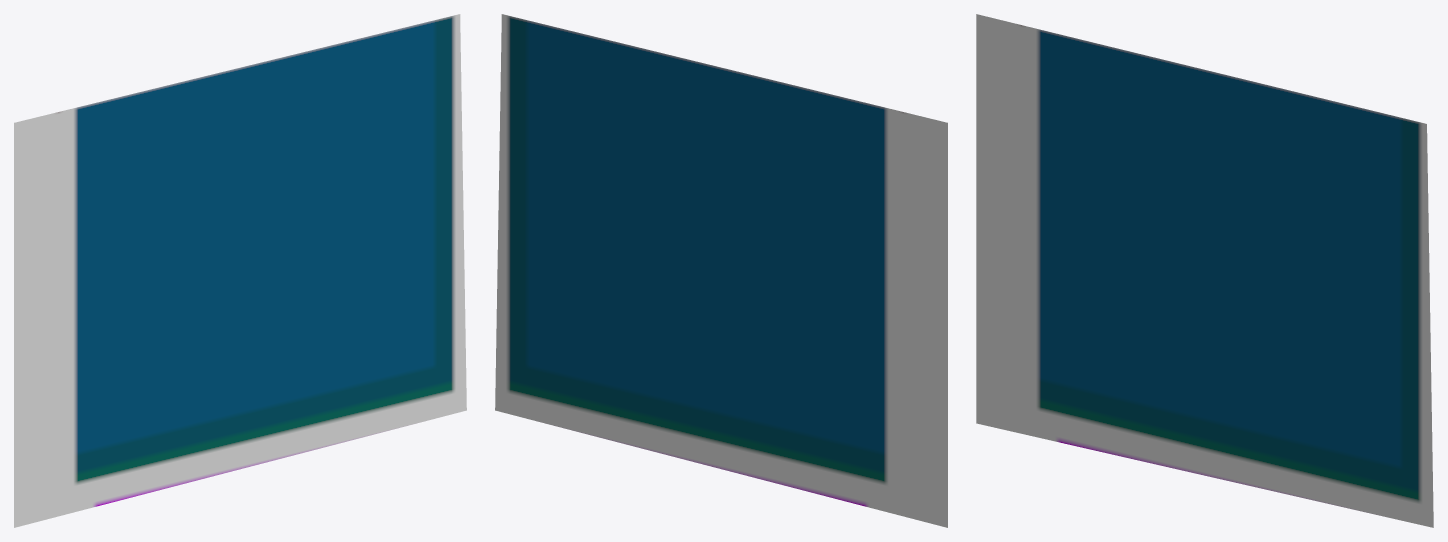
File: Julebu_Deng9_fbx.FBX
3 renders of one model, left to right at view 1: azimuth 30°, elevation 25°; view 2: azimuth 150°, elevation 25°; view 3: azimuth 330°, elevation 25°, orthographic.
Visible parts, largest first — view 1: Object072; view 2: Object072; view 3: Object072.
Part boxes in pixels (<box>): Object072: <box>14,14,466,527</box>; Object072: <box>495,14,947,527</box>; Object072: <box>976,14,1433,527</box>.
Size of the model in its own units: 1.92 by 1.64 by 2.74e-07.
